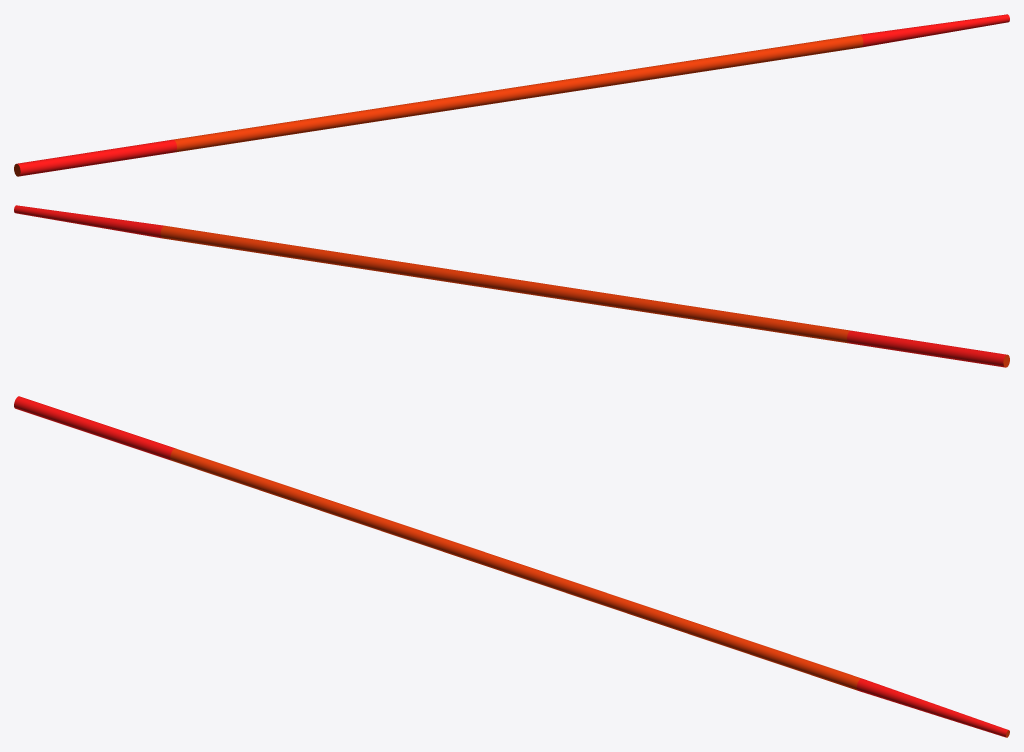
File: stick.FBX
The picture shows the model from 3 angles, top to bottom: view 1: azimuth 30°, elevation 25°; view 2: azimuth 150°, elevation 25°; view 3: azimuth 330°, elevation 25°; orthographic projection.
Visible parts, largest first — view 1: Cylinder001; view 2: Cylinder001; view 3: Cylinder001.
Part boxes in pixels (bbox=[...]): Cylinder001: bbox=[14, 14, 1009, 176]; Cylinder001: bbox=[14, 205, 1009, 367]; Cylinder001: bbox=[14, 396, 1009, 737].
Size of the model in its own units: 3501 by 335 by 39.73.
